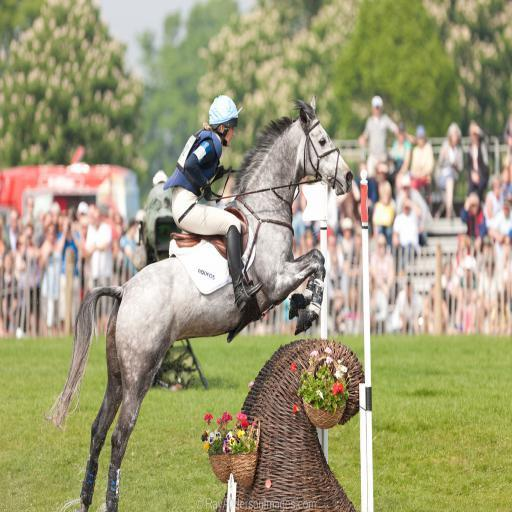horse: (45, 94, 354, 512)
